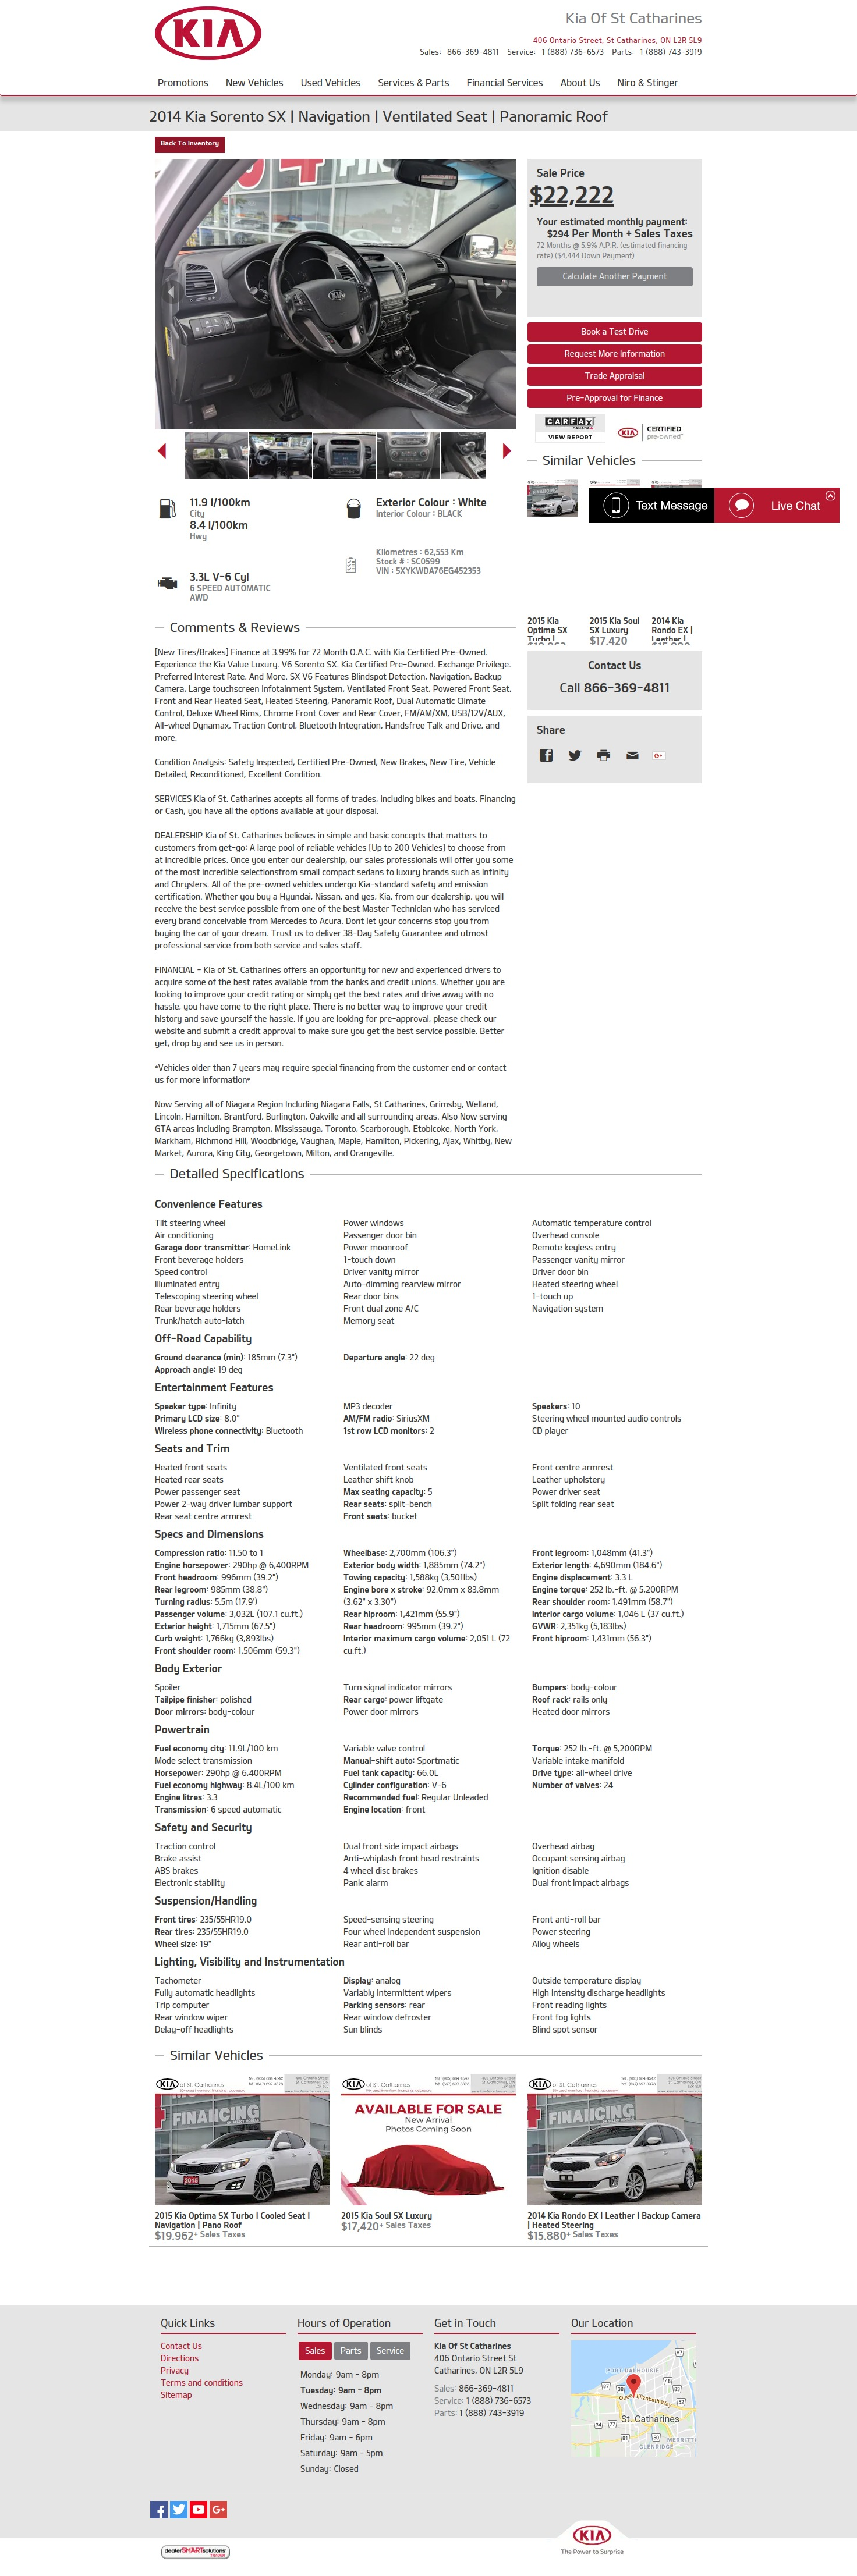car: (502, 442, 512, 462)
